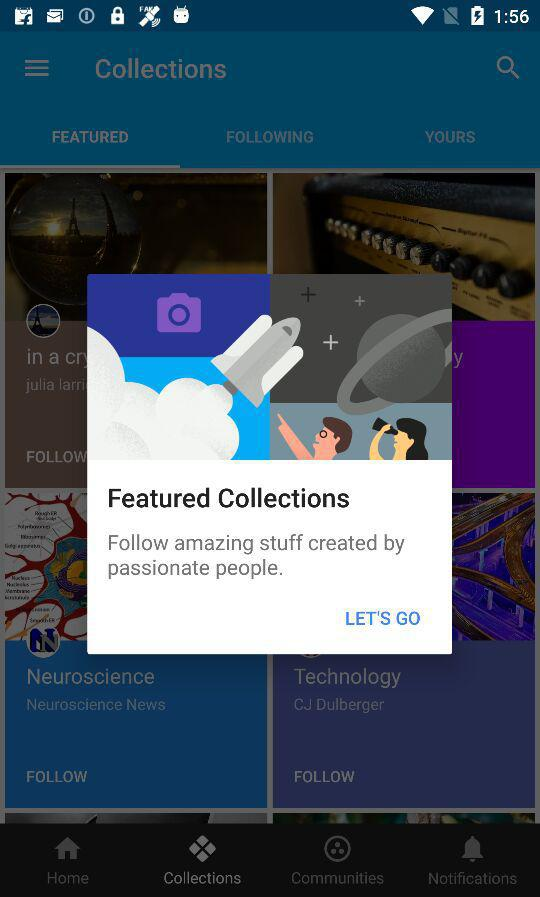Icon: (460, 835, 484, 862), (496, 55, 520, 81), (54, 837, 81, 860), (25, 59, 51, 78)
Image: (88, 274, 453, 460), (189, 835, 217, 863), (323, 836, 351, 863)
Modal: (87, 274, 453, 655)
Text: (109, 533, 406, 580), (109, 487, 350, 510), (96, 58, 228, 80), (293, 667, 402, 689), (28, 668, 156, 686), (26, 698, 166, 712), (294, 697, 385, 714), (226, 131, 314, 145), (345, 610, 421, 626), (291, 871, 384, 884), (28, 349, 84, 370), (428, 872, 518, 885), (164, 871, 242, 885), (25, 378, 82, 397), (53, 131, 129, 145), (27, 449, 86, 465), (26, 770, 88, 784), (294, 770, 356, 784), (425, 131, 476, 145), (48, 871, 89, 885)
UpperTaskBar: (1, 1, 540, 33)
